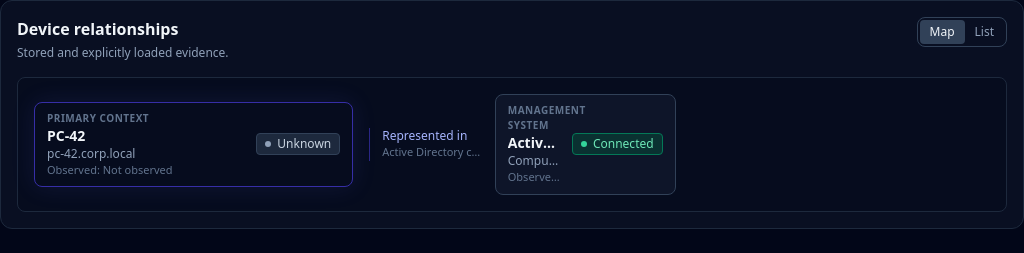
Test: RelationshipMap › offers a semantic list with the same relationship evidence
Click the button "List".
click(984, 32)  # box [964, 20, 1004, 44]
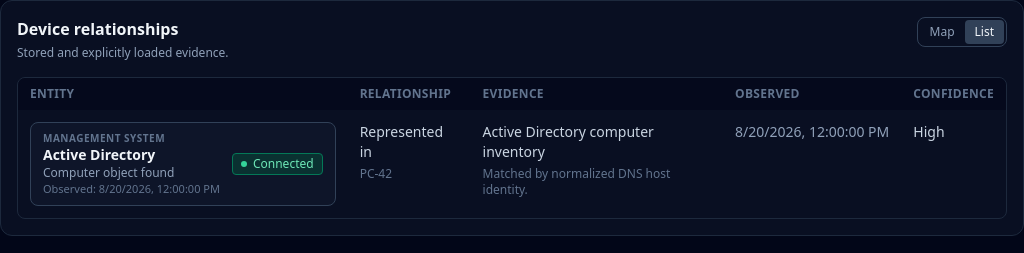
Result: the text "Active Directory computer inventory" is shown at [483, 122, 654, 161]
Result: the text "Matched by normalized DNS host identity." is shown at [483, 165, 670, 198]
Result: the text "high" is shown at [901, 110, 1006, 218]
